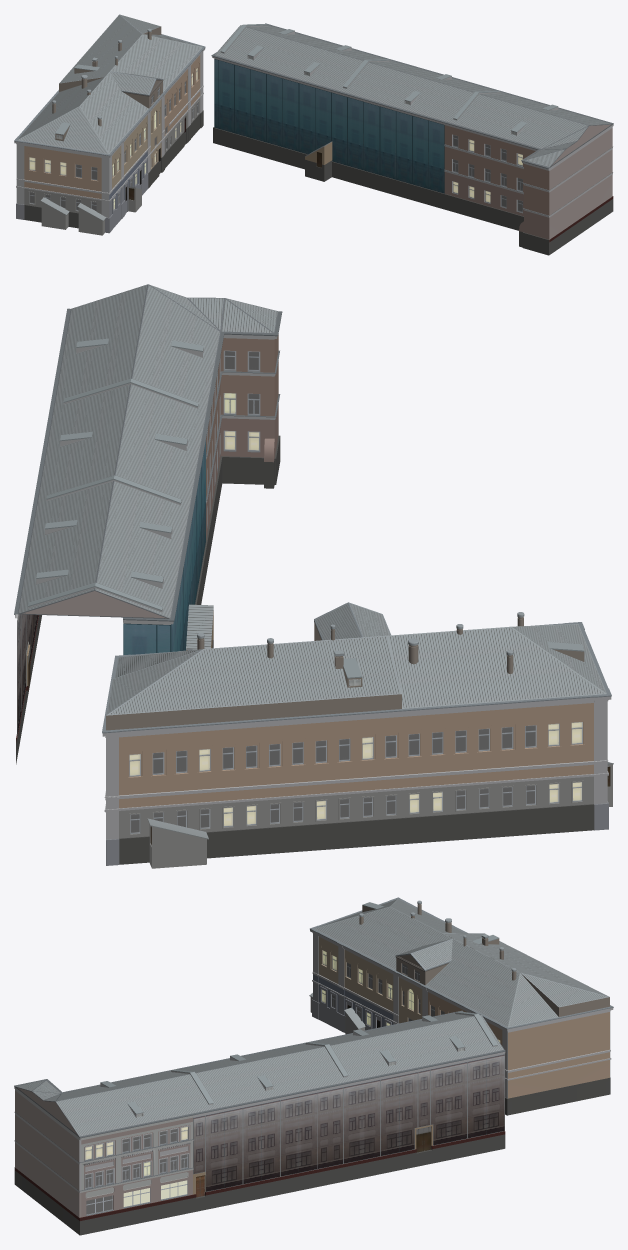
The model's file is StereetBuildingHided2.fbx.
3 renders of one model, top to bottom at view 1: azimuth 30°, elevation 25°; view 2: azimuth 150°, elevation 25°; view 3: azimuth 270°, elevation 25°, orthographic. The views are drawn at different scales.
Visible parts, largest first — view 1: 01080-50@110421; view 2: 01080-50@110421; view 3: 01080-50@110421.
Boxes of the visible parts, x1,y1,x2,y2 form: 01080-50@110421: (14, 14, 613, 255); 01080-50@110421: (14, 284, 613, 868); 01080-50@110421: (14, 897, 613, 1235).
Size of the model in its own units: 86.53 by 19.58 by 87.48.
1 material, 1 textured.
